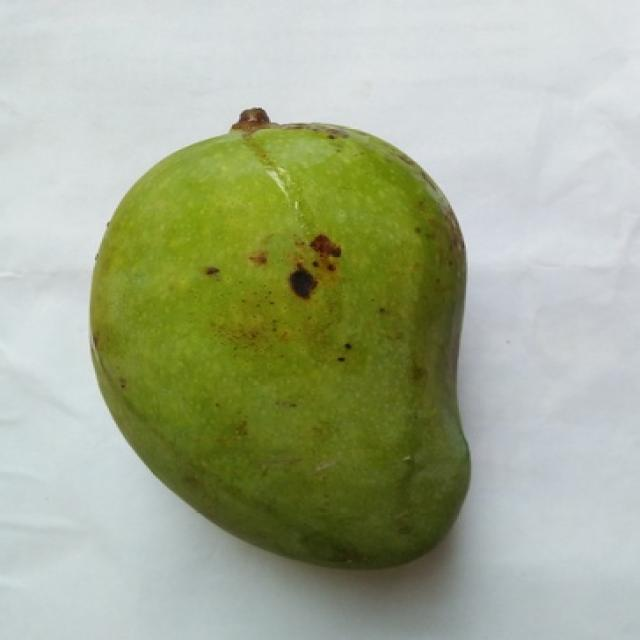Mango: (90, 109, 469, 568)
